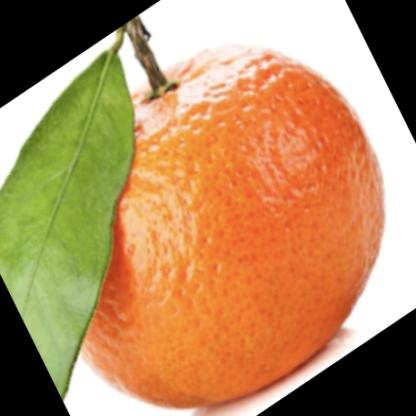fresh: (54, 45, 385, 401)
